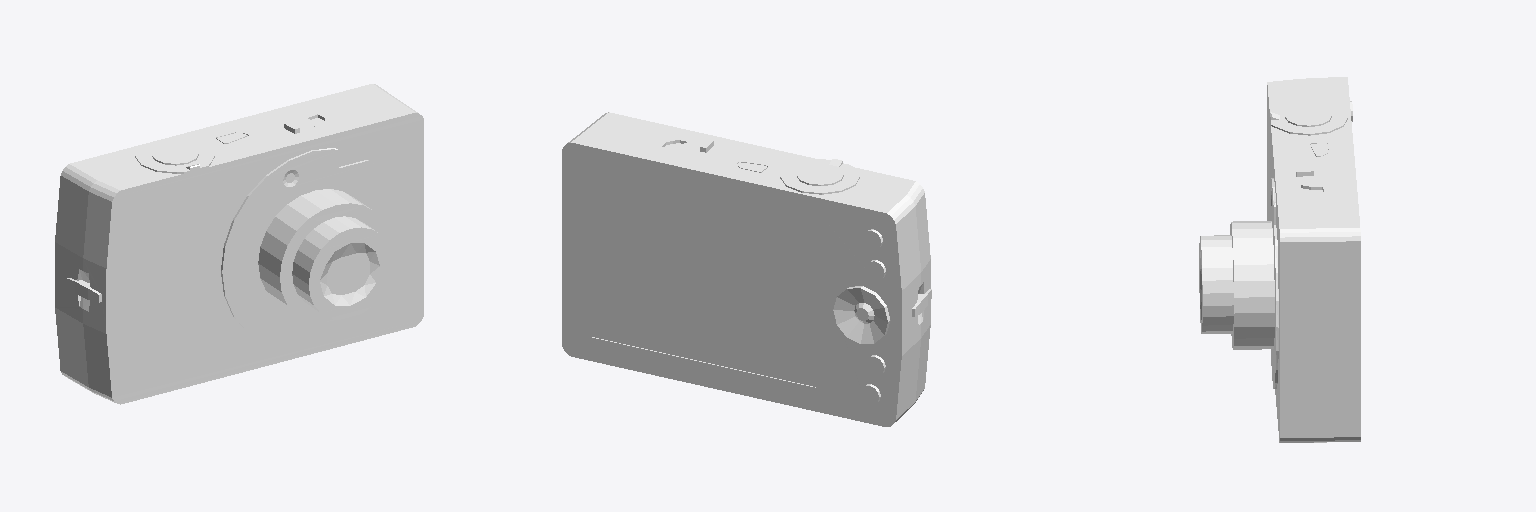
Rendered from model_align.obj.
The picture shows the model from 3 angles: view 1: azimuth 30°, elevation 25°; view 2: azimuth 150°, elevation 25°; view 3: azimuth 270°, elevation 25°; orthographic projection.
Size of the model in its own units: 0.1194 by 0.0743 by 0.0497.